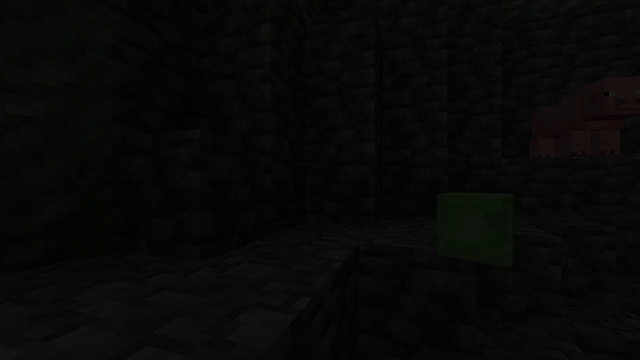cochons: (528, 91, 629, 158)
slimes: (439, 190, 525, 266)
